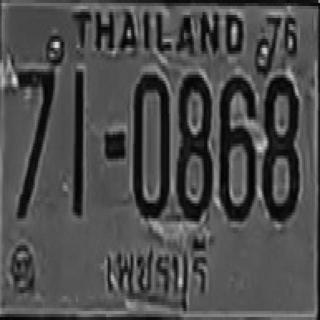N00: (133, 72, 169, 218)
N01: (73, 69, 83, 215)
N06: (219, 75, 255, 218)
N07: (16, 66, 54, 215)
N08: (261, 73, 298, 220), (176, 72, 211, 218)
P44: (103, 229, 217, 317)
